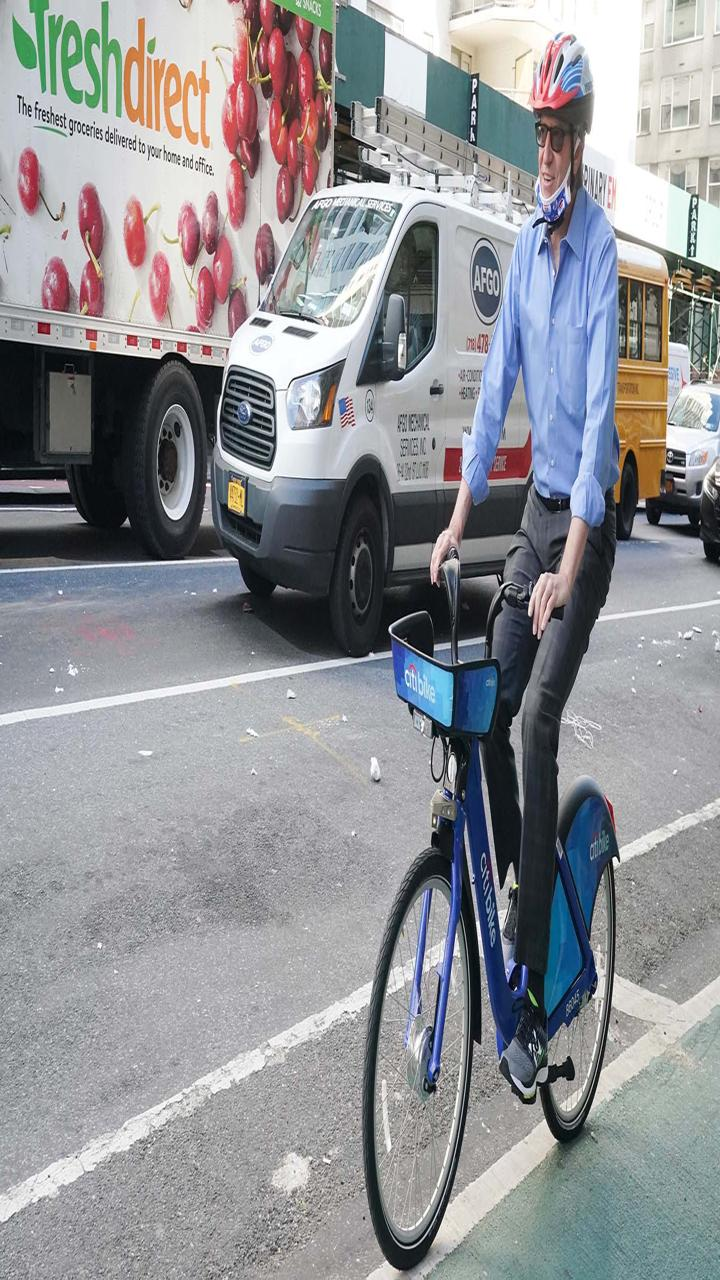bicycle: (300, 532, 703, 1271)
cyclist: (430, 13, 634, 1080)
vehicle: (198, 151, 720, 636)
